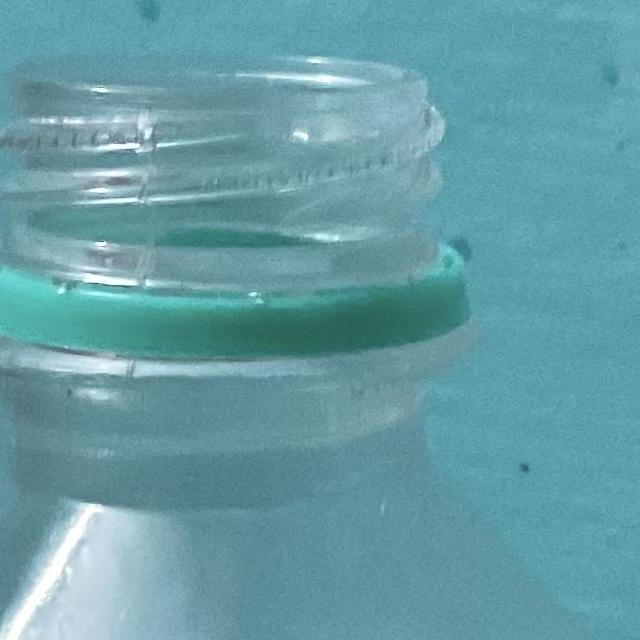open-cap: (0, 45, 483, 352)
